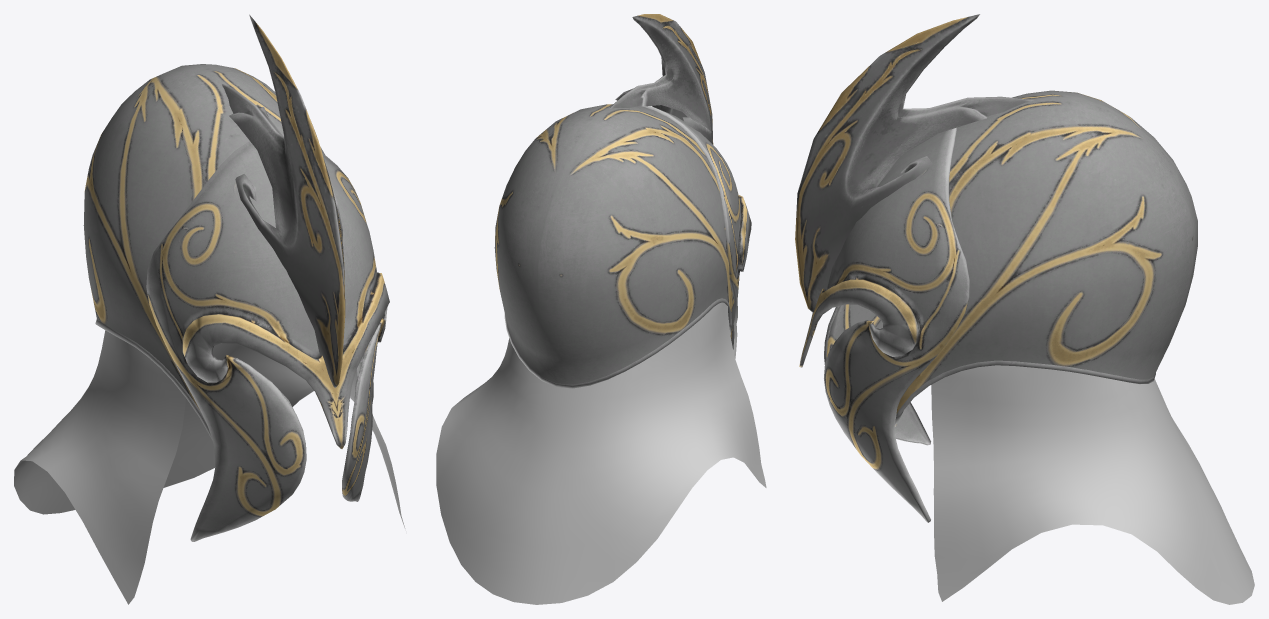
Rendered from rivendell_helmet_cavalry_tier2_silvergold.fbx.
The picture shows the model from 3 angles, left to right: view 1: azimuth 30°, elevation 25°; view 2: azimuth 150°, elevation 25°; view 3: azimuth 270°, elevation 25°; orthographic projection. The views are drawn at different scales.
Visible parts, largest first — view 1: rivendell_helmet_cavalry_tier2_silvergold.1, rivendell_helmet_cavalry_tier2_silvergold.2, rivendell_helmet_cavalry_tier2_silvergold.0; view 2: rivendell_helmet_cavalry_tier2_silvergold.2, rivendell_helmet_cavalry_tier2_silvergold.1, rivendell_helmet_cavalry_tier2_silvergold.0; view 3: rivendell_helmet_cavalry_tier2_silvergold.1, rivendell_helmet_cavalry_tier2_silvergold.2, rivendell_helmet_cavalry_tier2_silvergold.0.
Part boxes in pixels (bbox=[...]): rivendell_helmet_cavalry_tier2_silvergold.1: bbox=[83, 64, 389, 541]; rivendell_helmet_cavalry_tier2_silvergold.2: bbox=[14, 330, 405, 604]; rivendell_helmet_cavalry_tier2_silvergold.0: bbox=[221, 14, 345, 387]; rivendell_helmet_cavalry_tier2_silvergold.2: bbox=[436, 302, 766, 604]; rivendell_helmet_cavalry_tier2_silvergold.1: bbox=[494, 104, 751, 388]; rivendell_helmet_cavalry_tier2_silvergold.0: bbox=[609, 14, 713, 144]; rivendell_helmet_cavalry_tier2_silvergold.1: bbox=[799, 90, 1197, 522]; rivendell_helmet_cavalry_tier2_silvergold.2: bbox=[931, 365, 1254, 604]; rivendell_helmet_cavalry_tier2_silvergold.0: bbox=[795, 14, 1033, 312].
Bounding box in the file's own units: 0.259 × 0.3499 × 0.4798.
